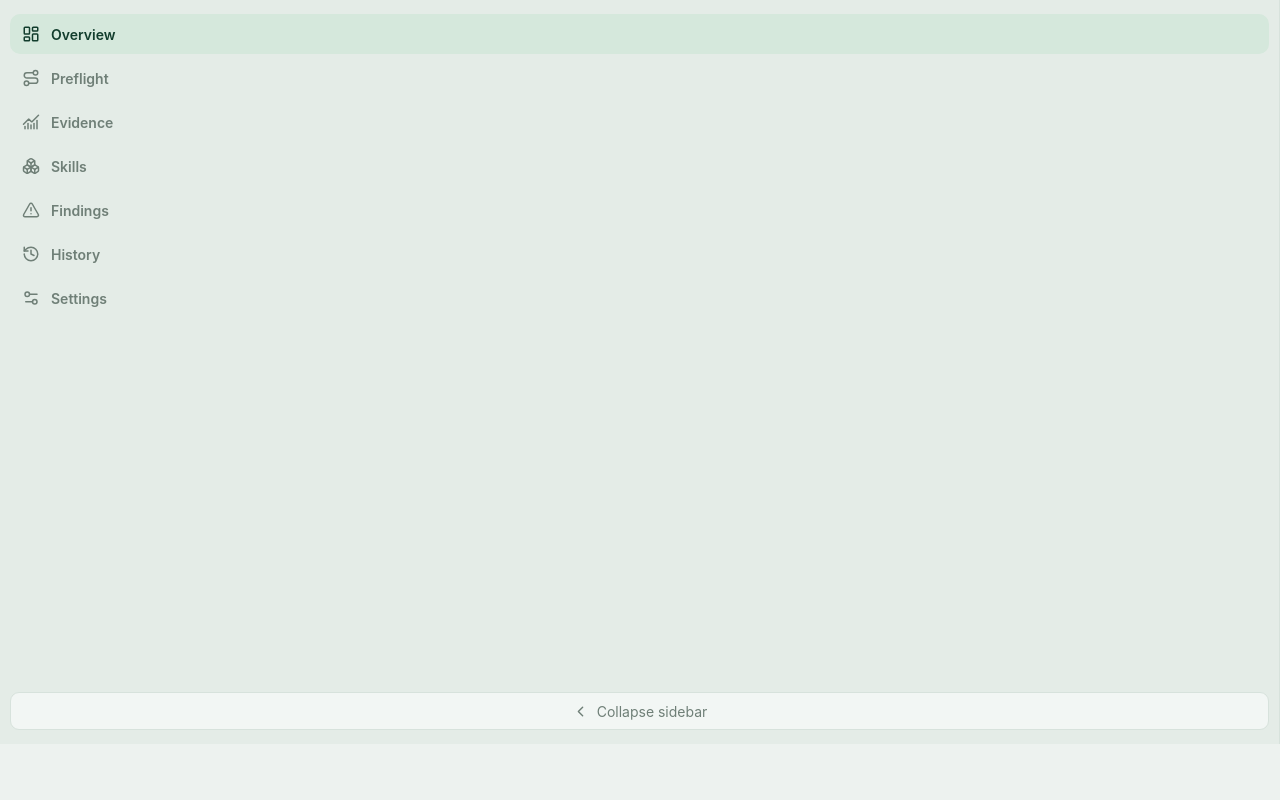
Test: defaults wide layouts to expanded and persists manual collapse
Check: the text "Overview" is shown, box [51,26,116,42]
Click the button "Collapse sidebar".
click(640, 711)  # box [10,692,1269,730]
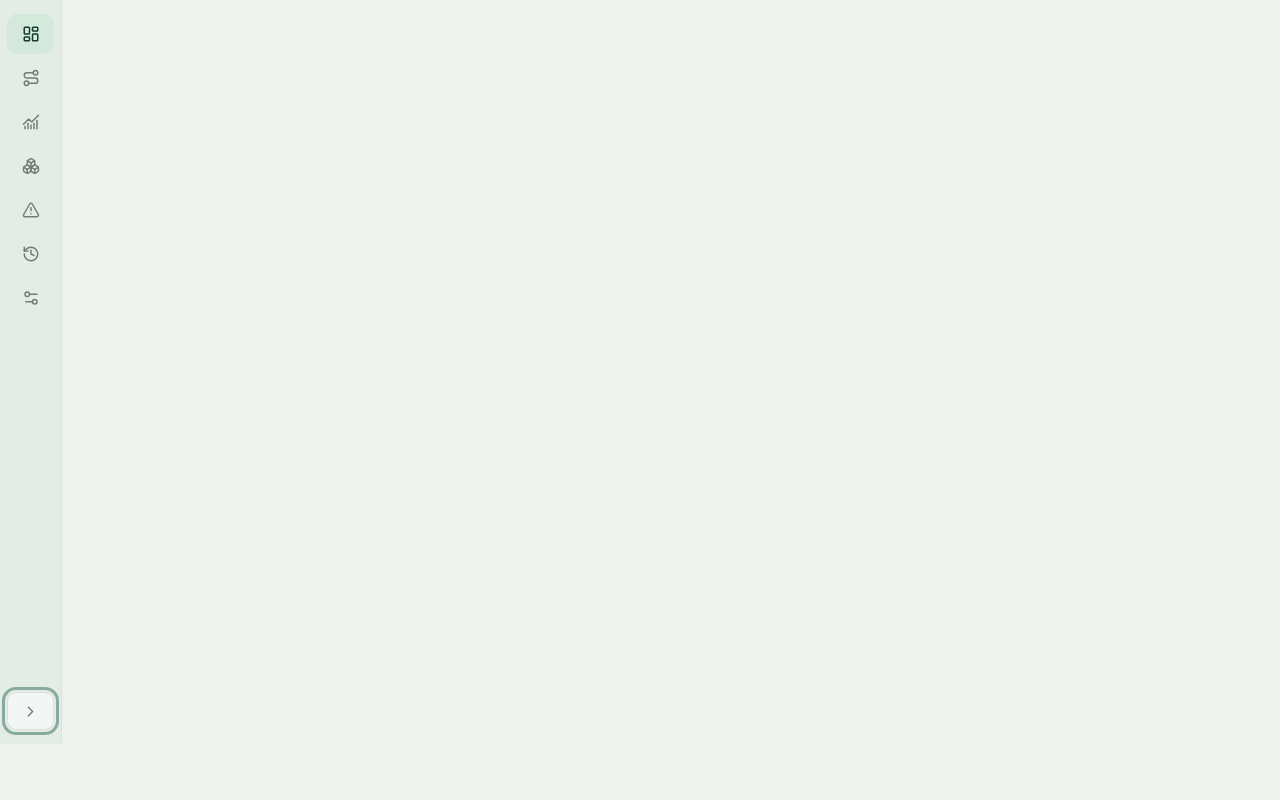
Check: the button named "Expand sidebar" is collapsed, box [7,692,54,730]
